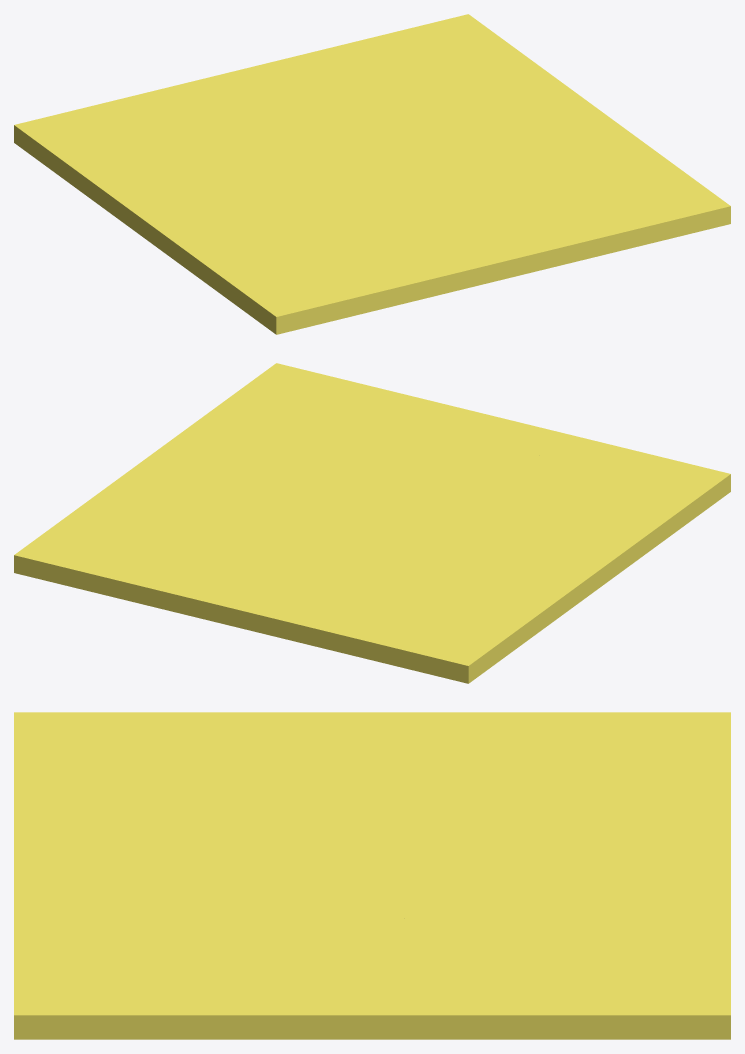
Rendered from plane_destroyed.fbx.
3 views of the same model, one above another, from view 1: azimuth 30°, elevation 25°; view 2: azimuth 150°, elevation 25°; view 3: azimuth 270°, elevation 25° (orthographic). The views are drawn at different scales.
Visible parts, largest first — view 1: Plane2, Plane1, Plane3, Plane6, Plane4, Plane7, Plane5; view 2: Plane2, Plane1, Plane3, Plane6, Plane4, Plane7, Plane5; view 3: Plane2, Plane3, Plane4, Plane1, Plane6, Plane7, Plane5.
Boxes of the visible parts, x1,y1,x2,y2 form: Plane2: (233,14,552,211); Plane1: (14,42,353,192); Plane3: (341,128,605,269); Plane6: (154,228,470,334); Plane4: (455,76,730,205); Plane7: (82,162,347,245); Plane5: (471,194,730,287); Plane2: (14,493,481,600); Plane1: (127,567,536,683); Plane3: (255,415,543,503); Plane6: (536,426,730,580); Plane4: (99,363,314,503); Plane7: (436,485,609,633); Plane5: (277,363,534,426); Plane2: (265,796,730,1039); Plane3: (14,798,421,960); Plane4: (14,930,499,1039); Plane1: (476,712,730,939); Plane6: (14,712,345,841); Plane7: (173,712,544,816); Plane5: (14,842,132,1014).
Size of the model in its own units: 200 by 7.5 by 200.
